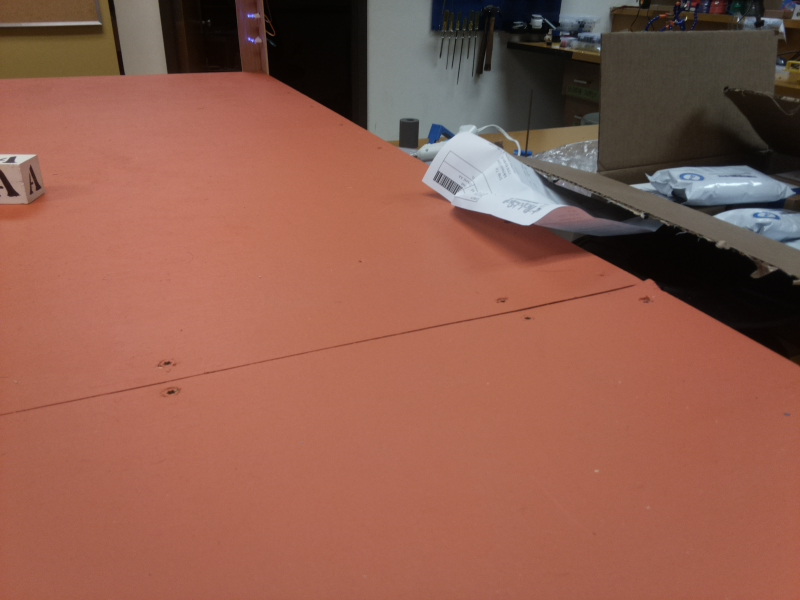blockA: (1, 153, 48, 212)
corner: (234, 1, 274, 76)
